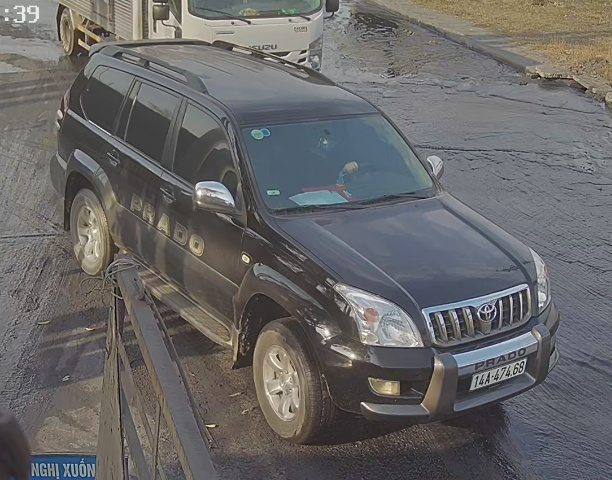vehicle plate: (464, 359, 530, 395)
